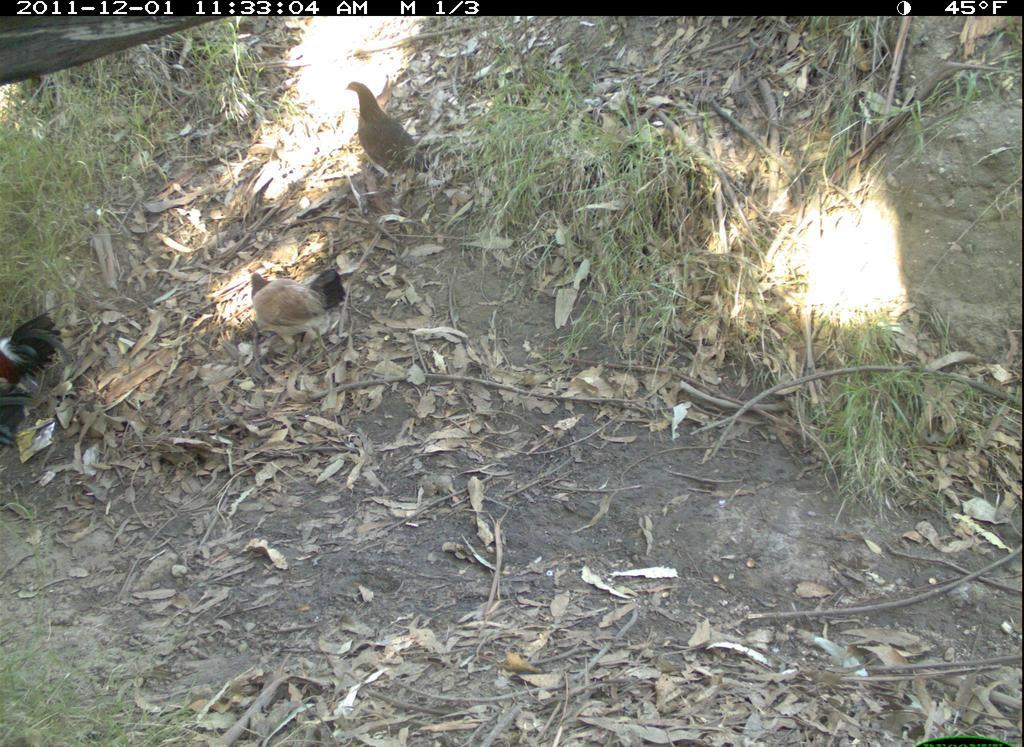bird: (329, 73, 457, 221), (225, 249, 373, 353)
